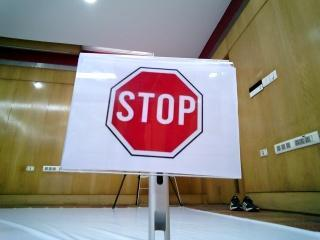stop: (91, 56, 214, 166)
